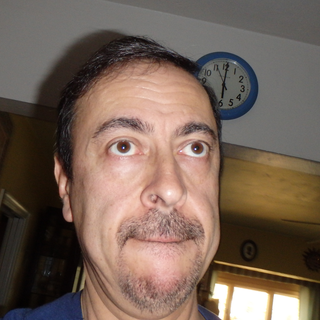eye: (102, 135, 146, 161), (176, 138, 215, 164)
